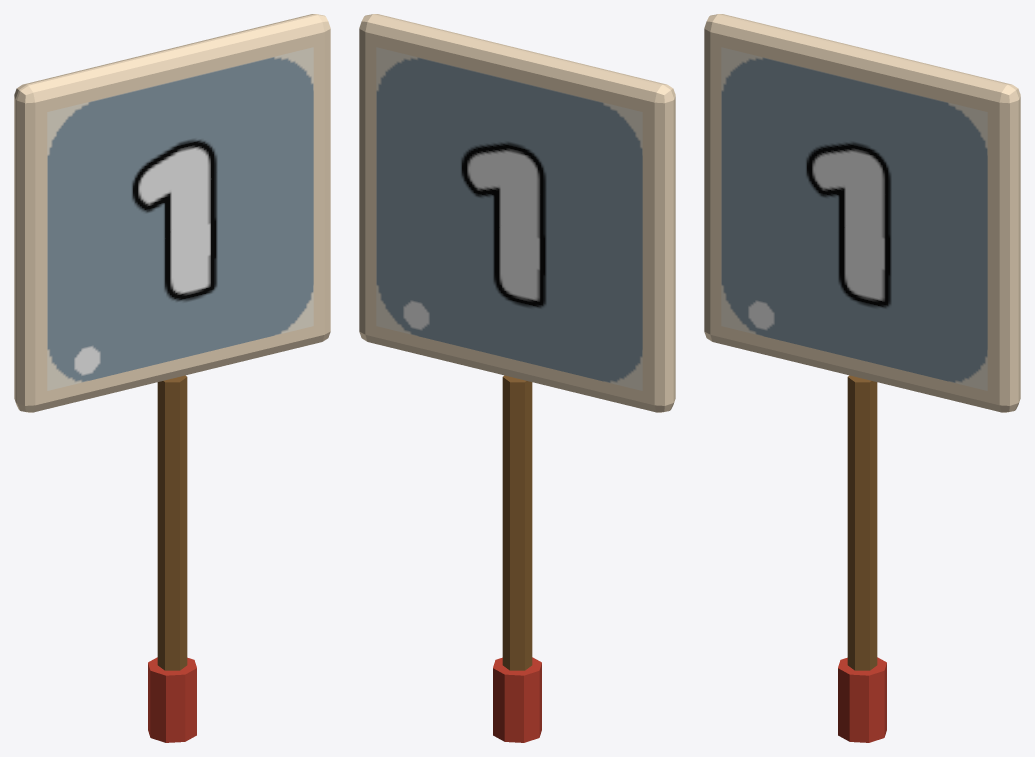
The model's file is bang_cham.glb.
3 views of the same model, side by side, from view 1: azimuth 30°, elevation 25°; view 2: azimuth 150°, elevation 25°; view 3: azimuth 330°, elevation 25° (orthographic).
Parts seen in each view (by area): view 1: so_1, mat_bang, can_go, dau_ngam; view 2: so_1_sau, mat_bang, can_go, dau_ngam; view 3: so_1, mat_bang, can_go, dau_ngam.
Part boxes in pixels (x1,y1,x2,y2): so_1: (47, 47, 313, 390); mat_bang: (14, 14, 330, 412); can_go: (157, 375, 187, 670); dau_ngam: (148, 657, 196, 742); so_1_sau: (376, 47, 642, 390); mat_bang: (359, 14, 675, 412); can_go: (502, 375, 532, 670); dau_ngam: (493, 657, 541, 742); so_1: (721, 47, 987, 390); mat_bang: (704, 14, 1020, 412); can_go: (847, 375, 877, 670); dau_ngam: (838, 657, 886, 742).
Bounding box in the file's own units: 0.17 × 0.355 × 0.024.
Materials: 3 (1 with a texture image).
